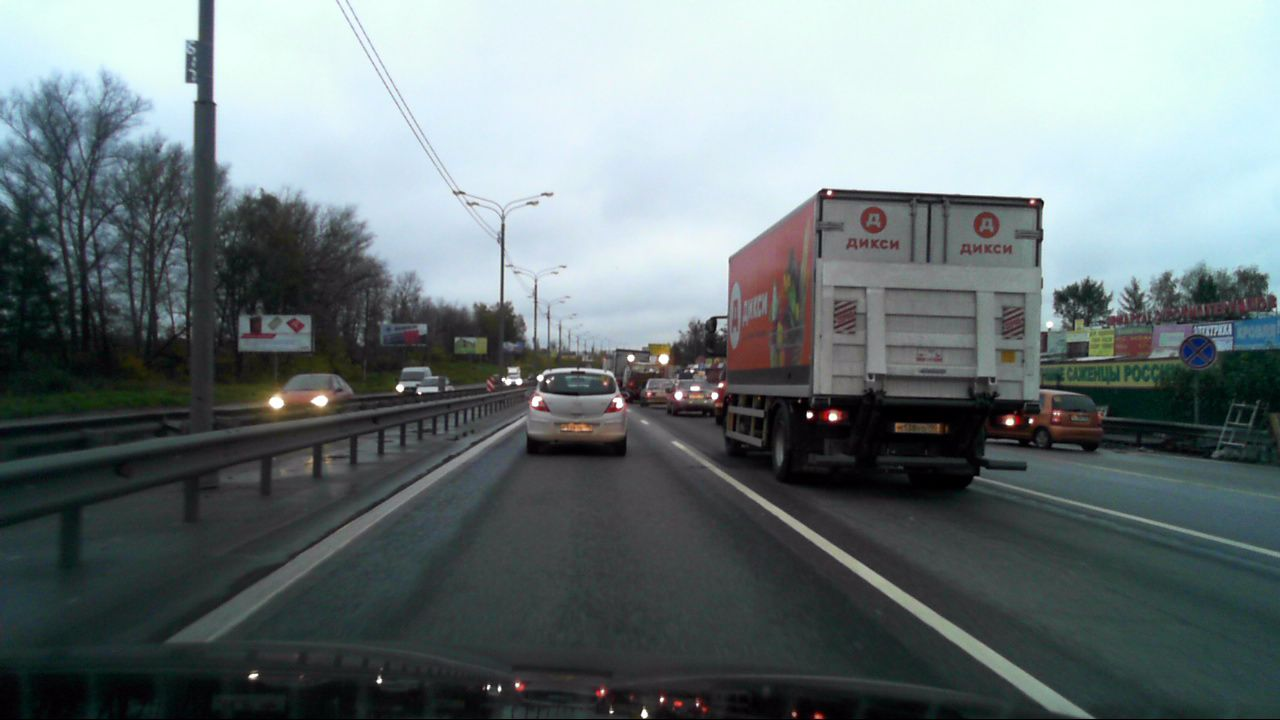No Parking: (1179, 334, 1215, 368)
